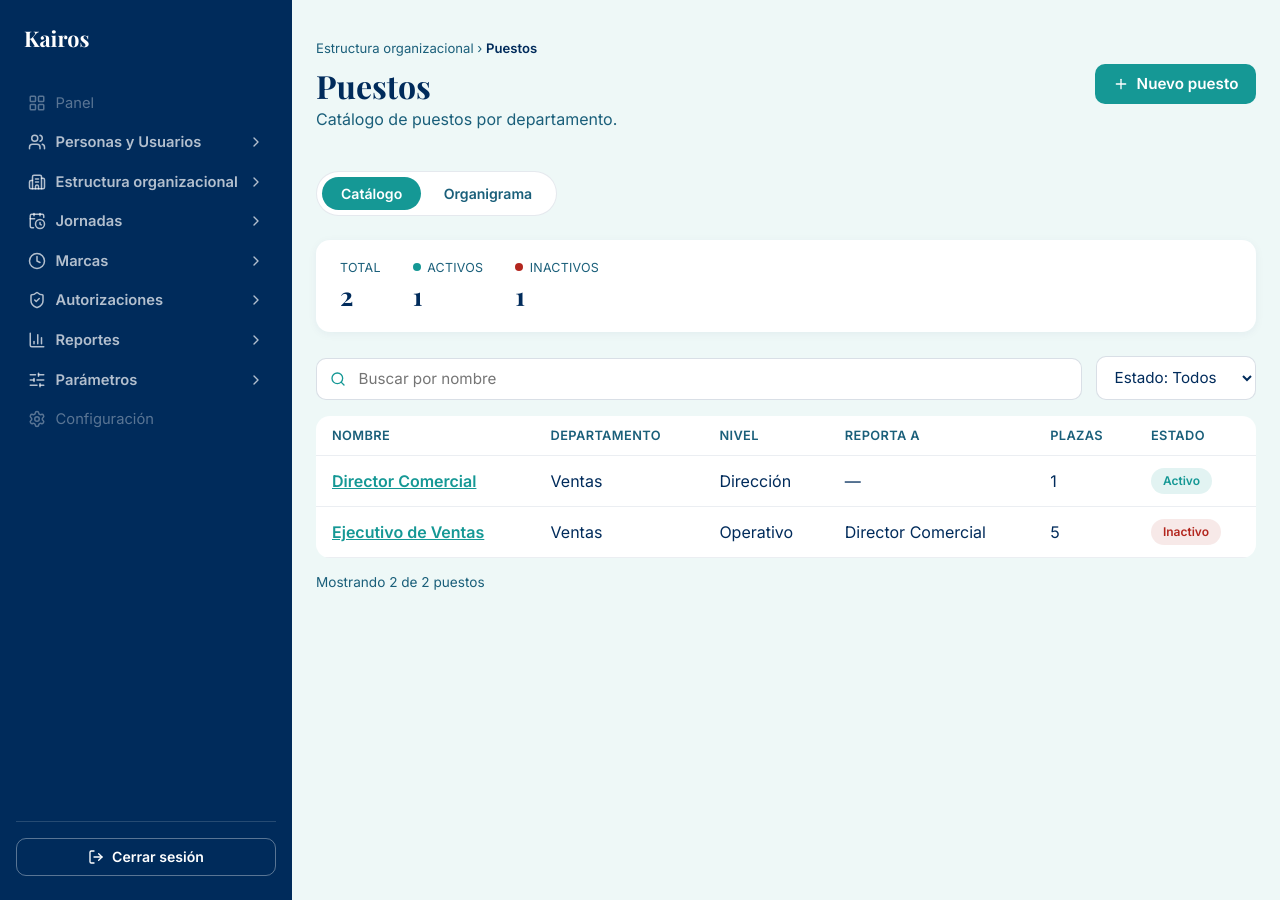
Scenario: DirectorioPuestosPage › organigrama (híbrido: árbol grande con toggle + click filtra el catálogo) › con una asignación vigente, el nodo muestra ocupadas/plazas
Expected: the link "Director Comercial" is shown, [332,471,476,491]
Click the tab "Organigrama" at (488, 193), box [425,177,551,210]
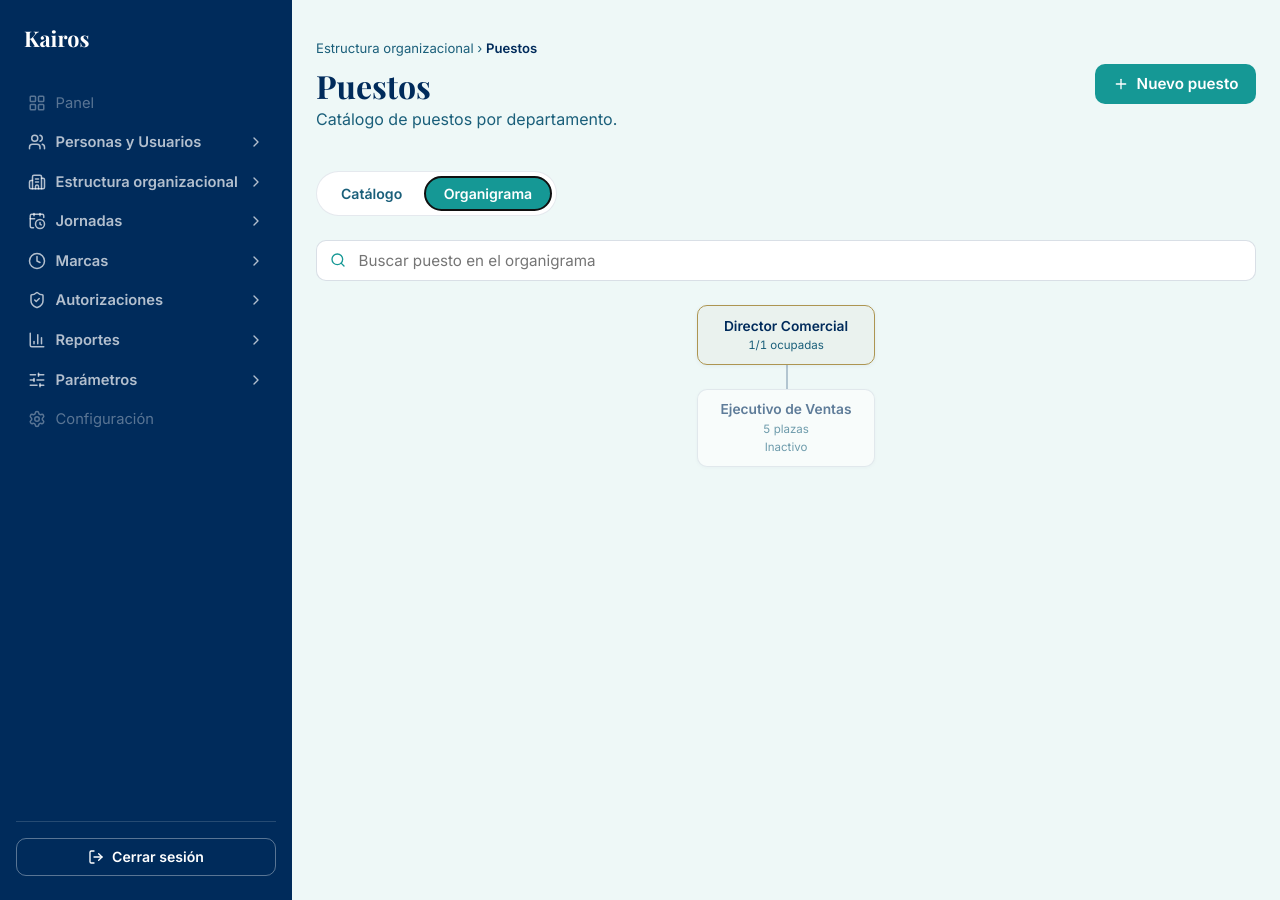
Now the button "Director Comercial 1/1 ocupadas" is shown, box [697,305,875,365]
